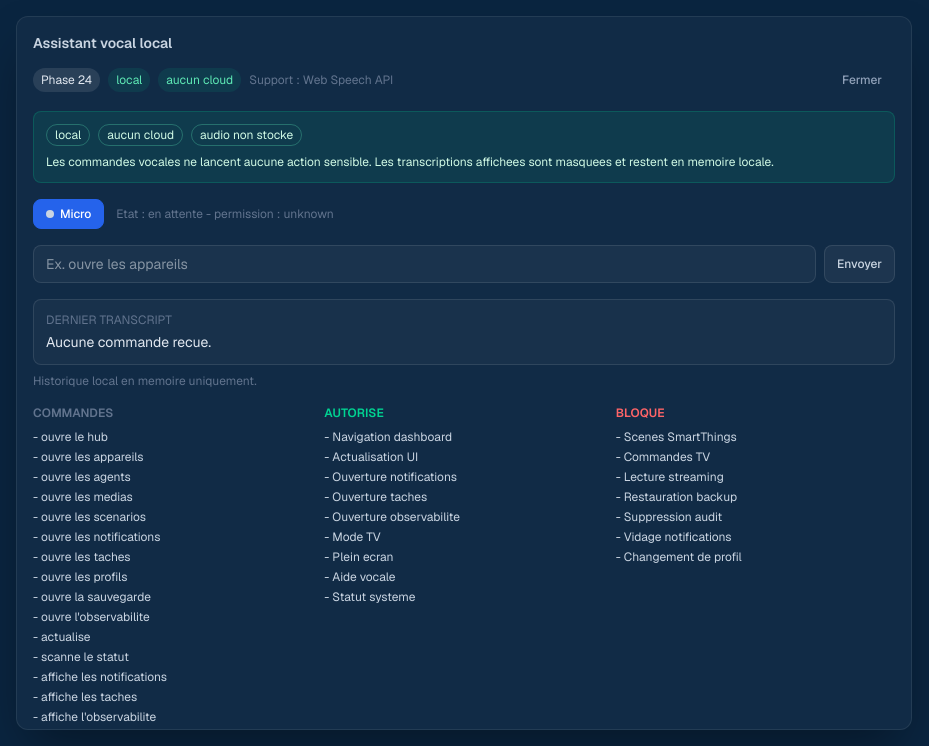
VoiceAssistantPanel › runs a safe text fallback command
The width and height of the screenshot is (929, 746).
In the field with placeholder "Ex. ouvre les appareils": x=424, y=264 [33,245,816,283], type "ouvre les appareils"
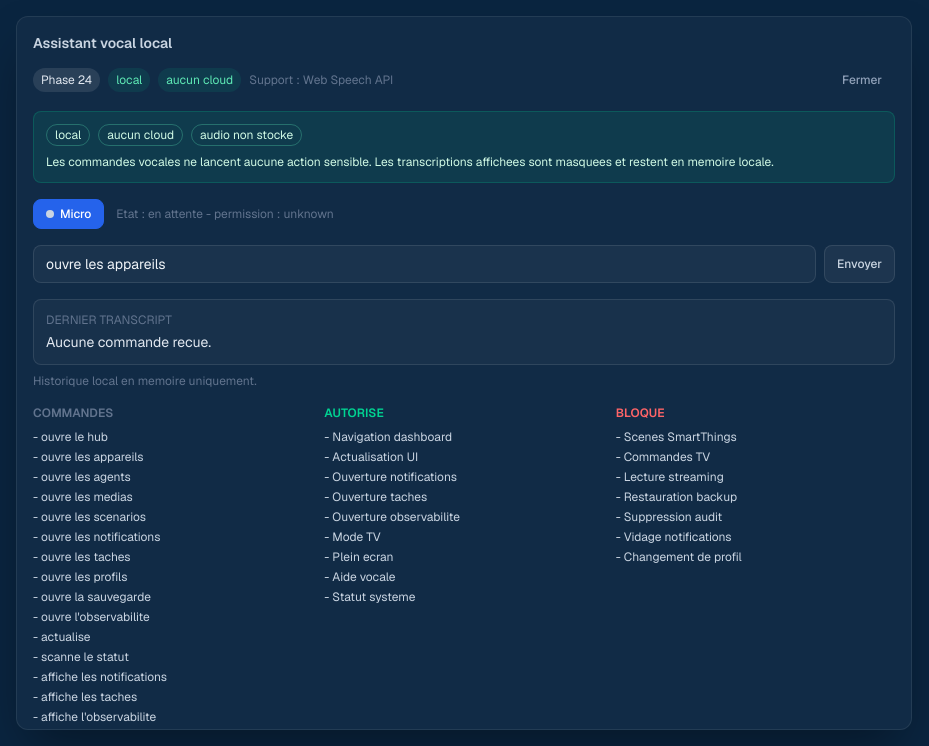
Click the button "Envoyer": x=860, y=264 [824,245,895,283]
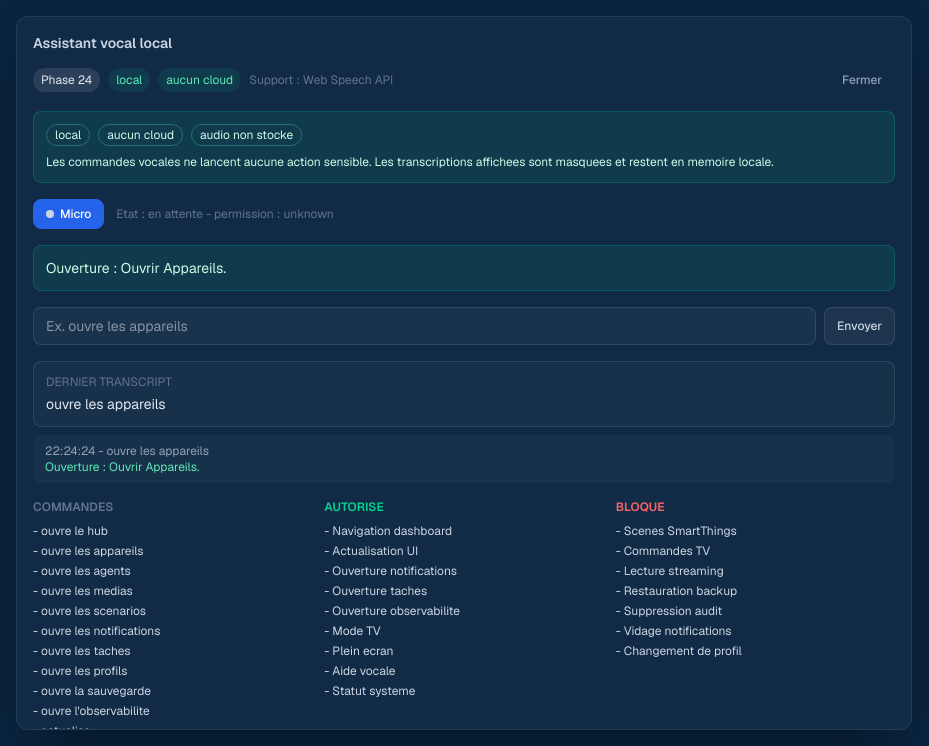
Now the 1st text "Ouverture : Ouvrir Appareils." is shown, box [33,245,895,291]
